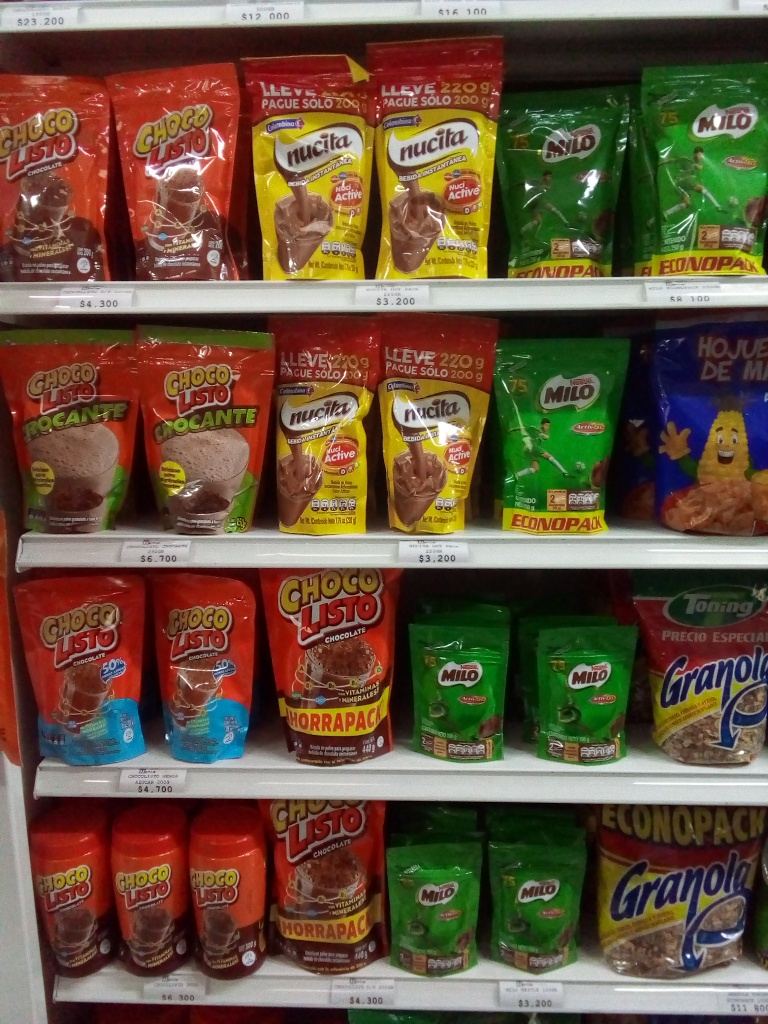COL0170103DYP44000: (254, 792, 401, 975)
COL0170103TRR00100: (186, 808, 273, 984)
COL0170104DYP20000: (146, 565, 256, 767)
